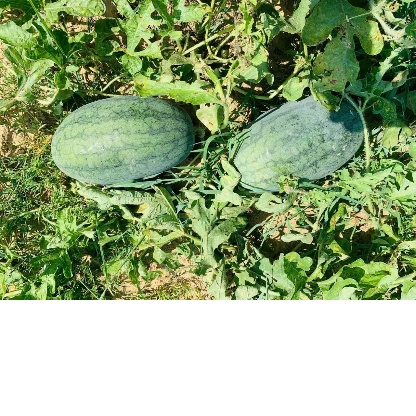duahau: (222, 79, 371, 202), (46, 79, 196, 189)
